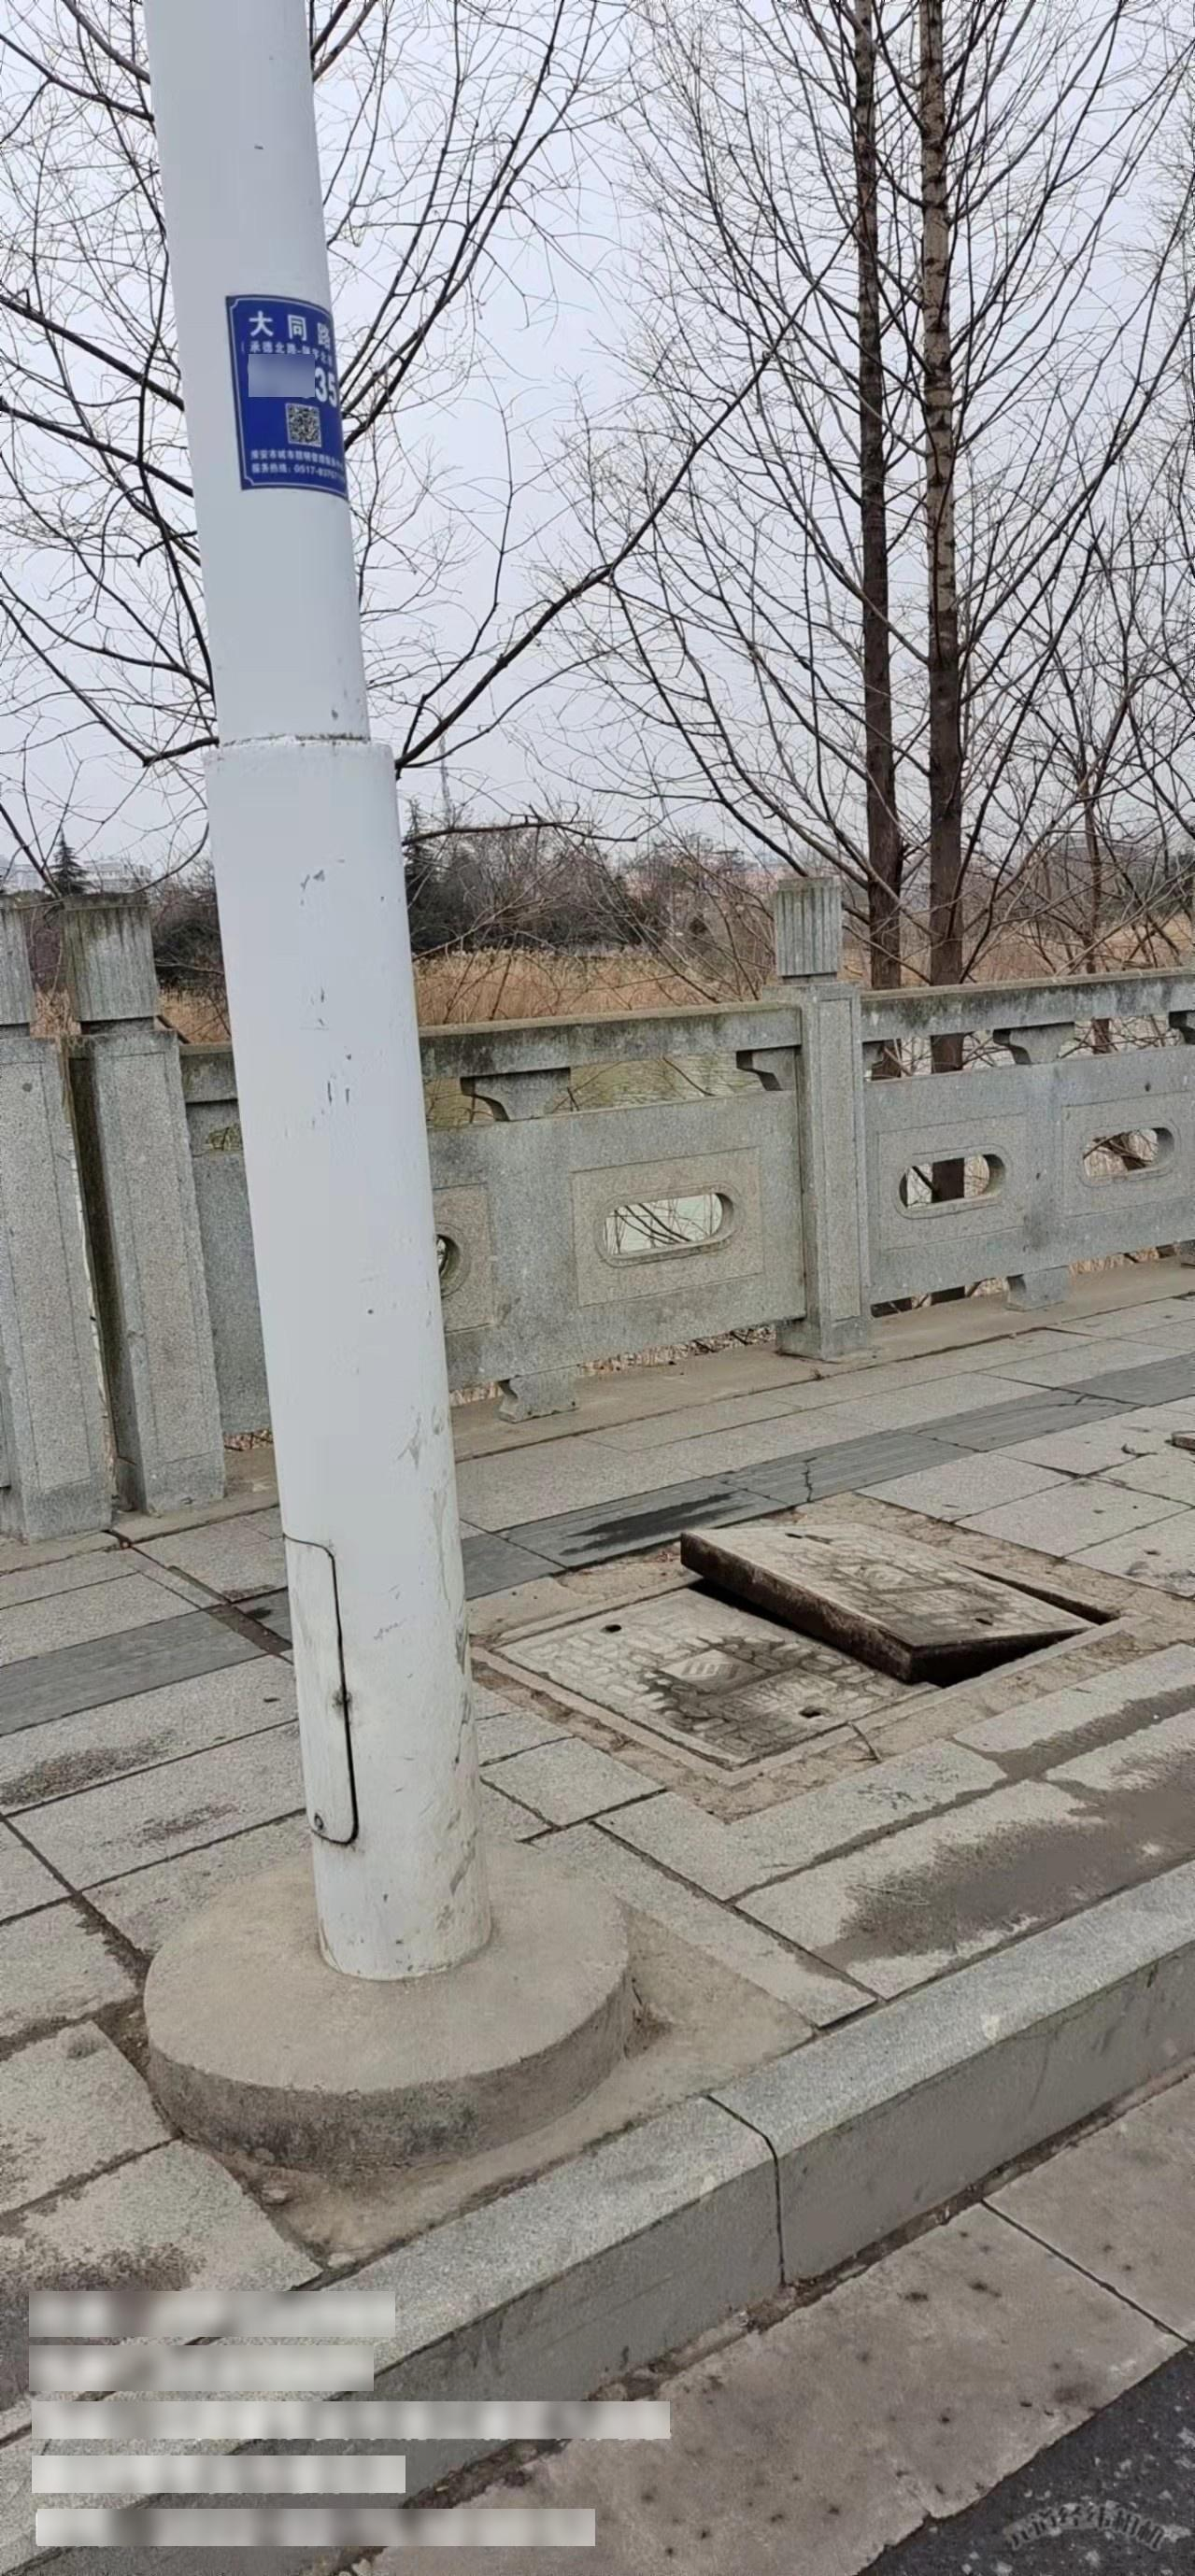wellcover: (468, 1454, 1195, 1769)
